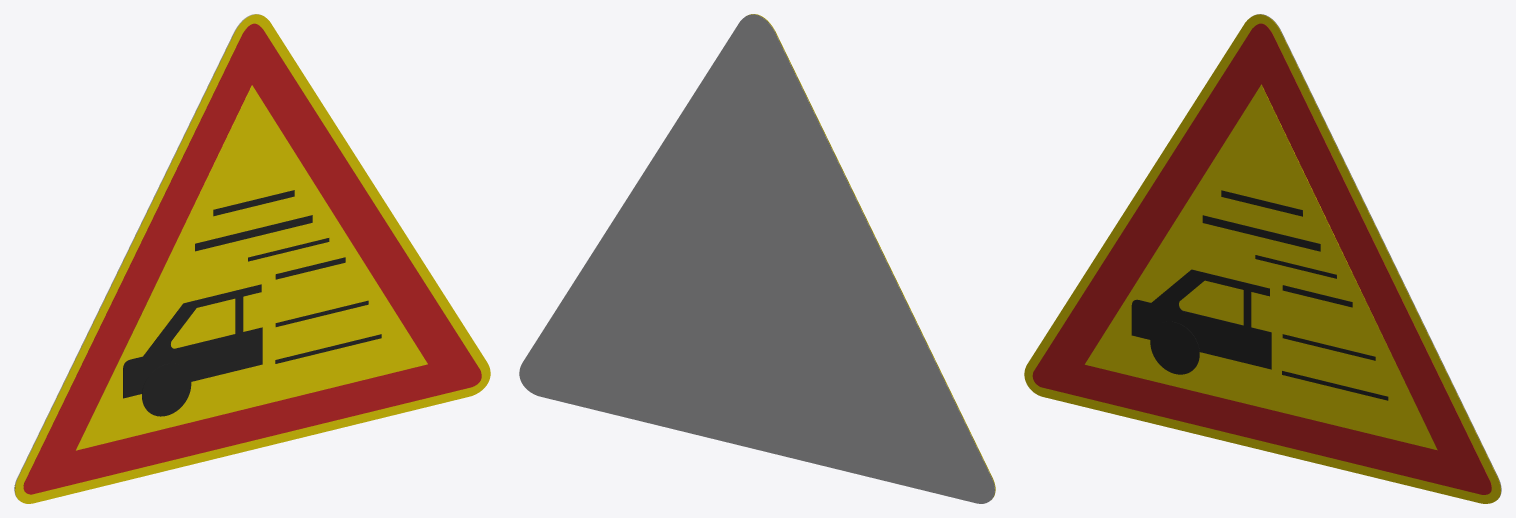
3 renders of one model, left to right at view 1: azimuth 30°, elevation 25°; view 2: azimuth 150°, elevation 25°; view 3: azimuth 330°, elevation 25°, orthographic.
Parts seen in each view (by area): view 1: AK32_p02, AK32_p01, AK32_p00, AK32_p03, AK32_p04, AK32_p05, AK32_p07, AK32_dos, AK32_p06; view 2: AK32_dos, AK32_p00; view 3: AK32_p02, AK32_p01, AK32_p00, AK32_p03, AK32_p04, AK32_p05, AK32_p07, AK32_dos, AK32_p06.
Part boxes in pixels (x1=…): AK32_p02: x1=76, y1=85, x2=427, y2=450; AK32_p01: x1=23, y1=23, x2=481, y2=494; AK32_p00: x1=15, y1=14, x2=490, y2=503; AK32_p03: x1=123, y1=327, x2=262, y2=398; AK32_p04: x1=142, y1=363, x2=191, y2=416; AK32_p05: x1=142, y1=284, x2=261, y2=357; AK32_p07: x1=195, y1=215, x2=312, y2=251; AK32_dos: x1=14, y1=14, x2=261, y2=499; AK32_p06: x1=213, y1=190, x2=294, y2=216; AK32_dos: x1=519, y1=14, x2=994, y2=503; AK32_p00: x1=748, y1=14, x2=995, y2=499; AK32_p02: x1=1085, y1=84, x2=1437, y2=450; AK32_p01: x1=1032, y1=23, x2=1491, y2=494; AK32_p00: x1=1024, y1=14, x2=1500, y2=503; AK32_p03: x1=1131, y1=299, x2=1271, y2=369; AK32_p04: x1=1150, y1=321, x2=1199, y2=374; AK32_p05: x1=1150, y1=269, x2=1269, y2=328; AK32_p07: x1=1202, y1=215, x2=1320, y2=251; AK32_dos: x1=1254, y1=14, x2=1501, y2=499; AK32_p06: x1=1221, y1=190, x2=1302, y2=216.
Bounding box in the file's own units: 0.7 × 0.6116 × 0.0063.
